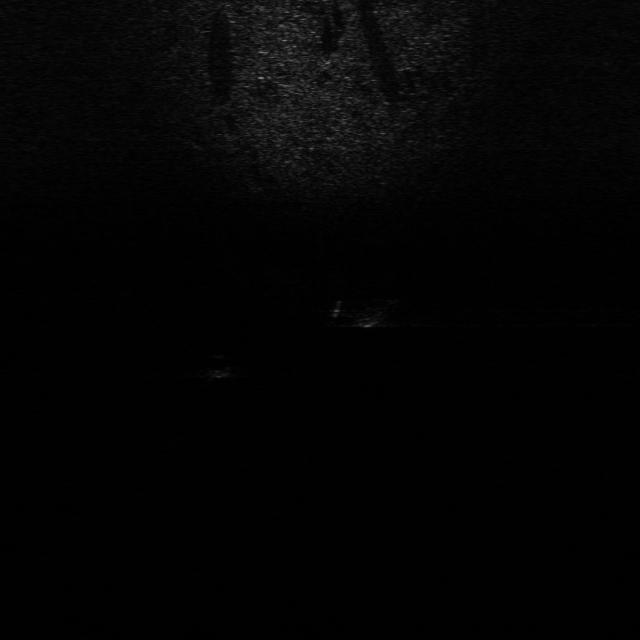ball: (196, 349, 240, 381)
human body: (328, 298, 414, 334)
